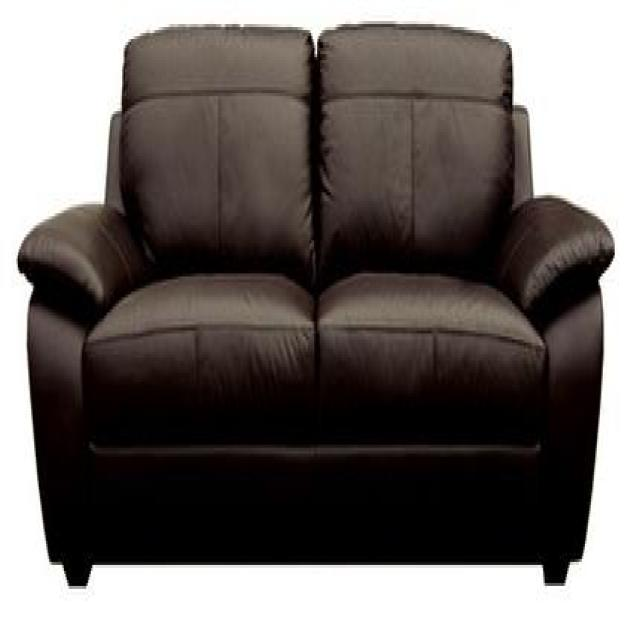sofa: (24, 21, 604, 586)
